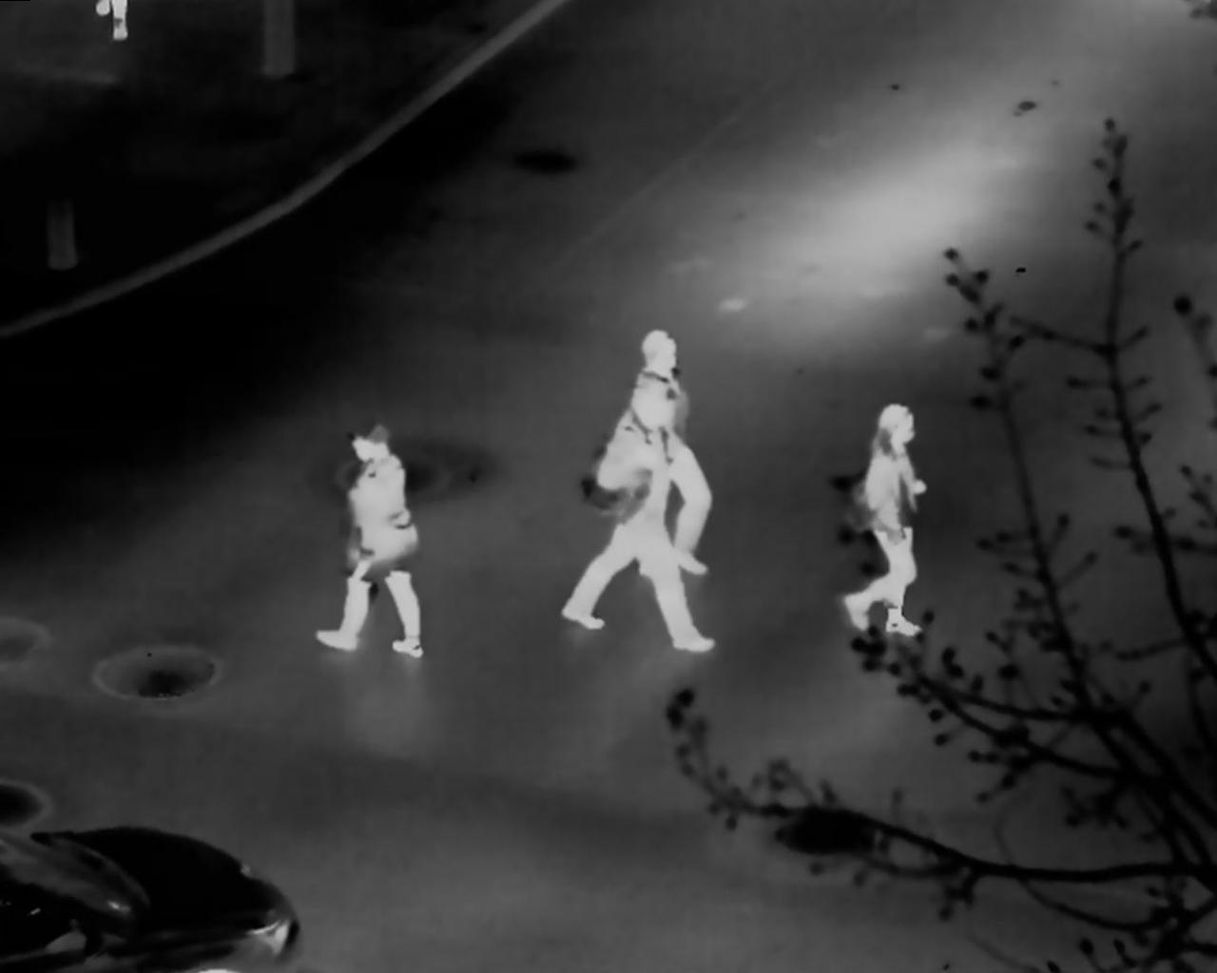person: (561, 373, 716, 652), (583, 328, 723, 579), (315, 420, 425, 658), (841, 402, 930, 636)
